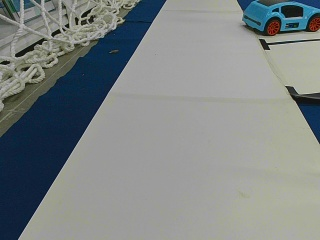car: (241, 2, 319, 34)
